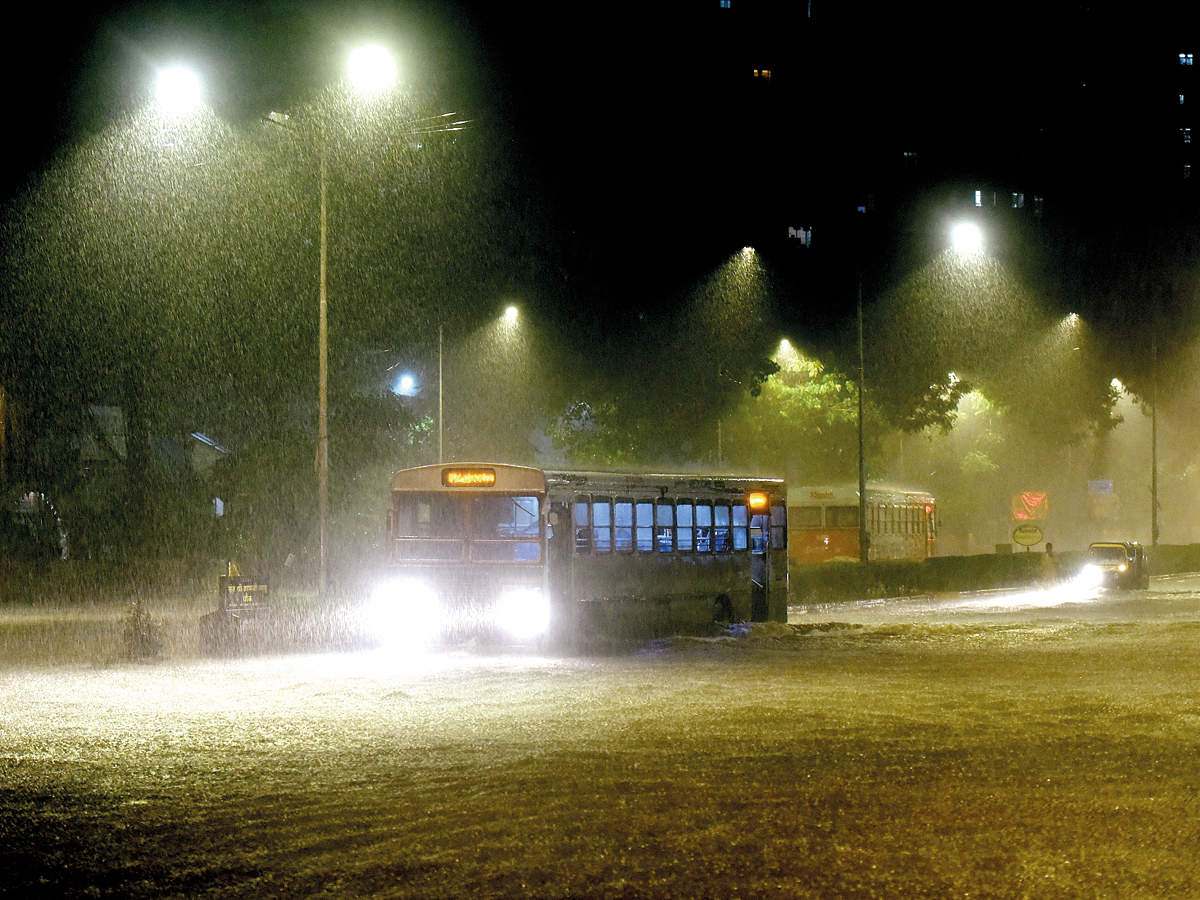bus: (374, 456, 798, 652), (787, 468, 944, 569)
rickshaw: (1084, 537, 1156, 595)
